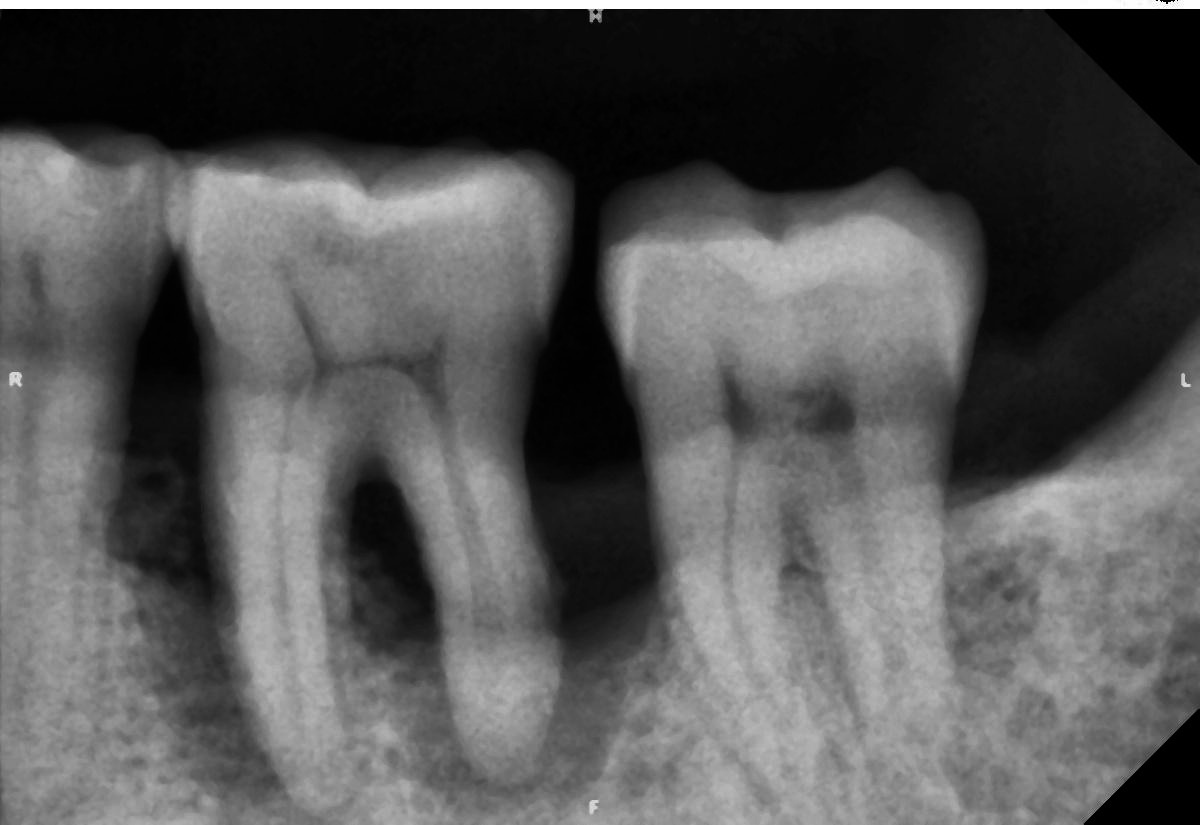Individual Tooth: (173, 141, 572, 811), (600, 164, 988, 794), (0, 127, 171, 820)
